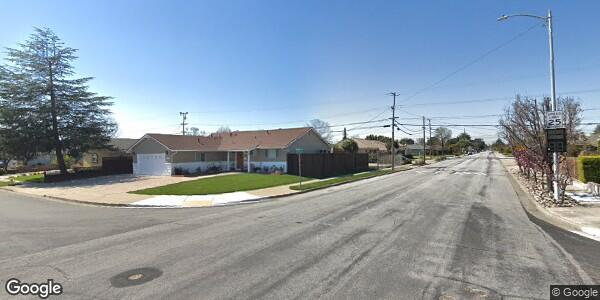Steel_Pole: (495, 8, 566, 205)
Wood_Pole: (384, 90, 402, 172), (177, 110, 190, 135)
